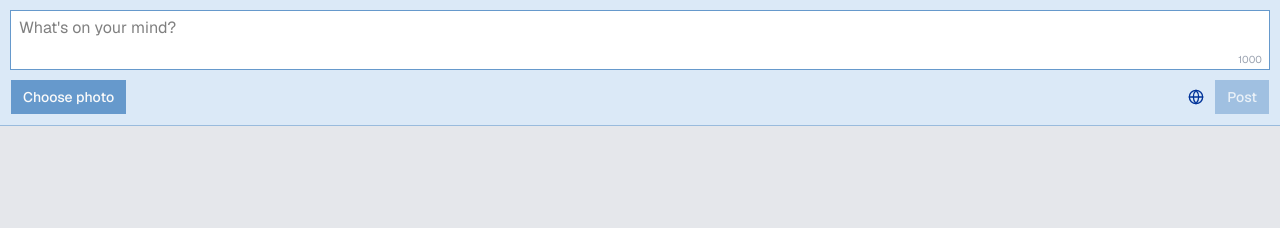
Test: PostComposer @mention autocomplete › closes on Escape without inserting
Type "@" into the dropdown with placeholder "What's on your mind?".
click(640, 40); type("@")  # box [10,10,1270,70]
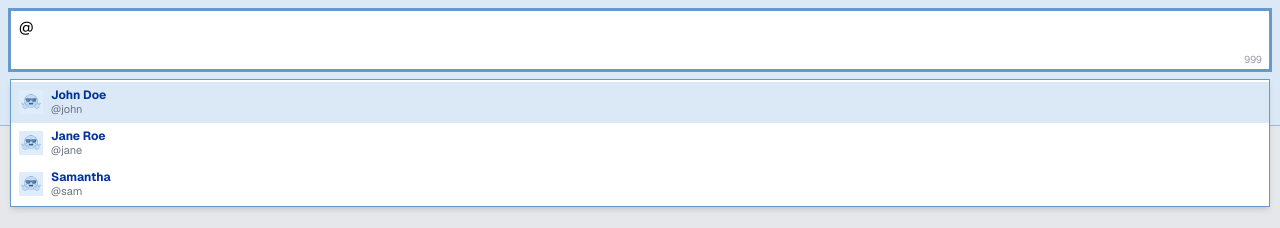
Result: the list is shown at [10,79,1270,207]
Press Escape
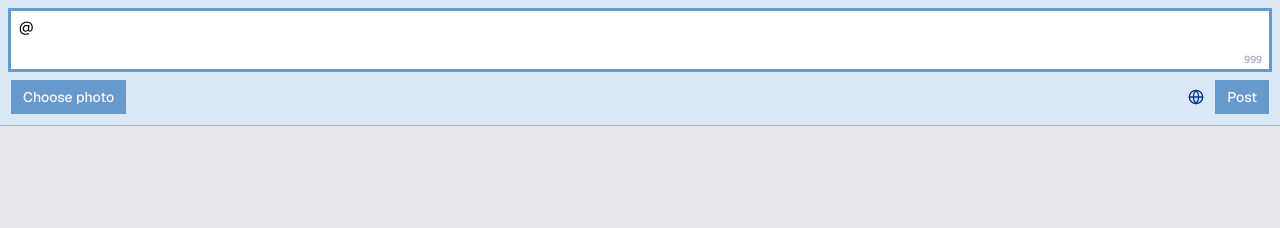
Result: the list is gone
